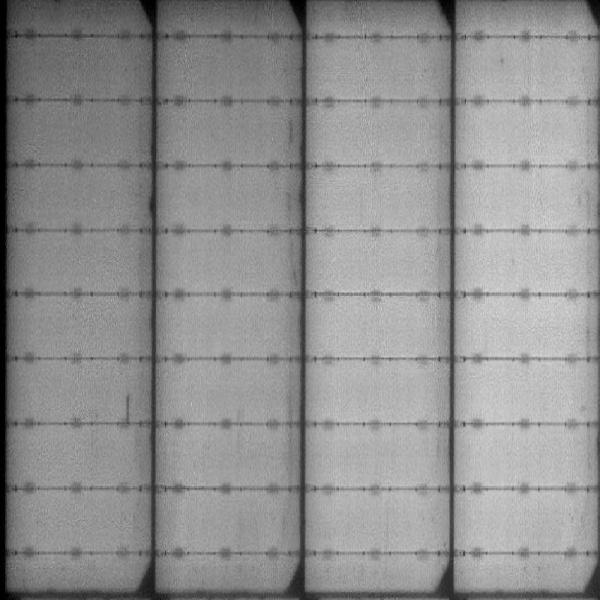scratch: (121, 392, 133, 430)
